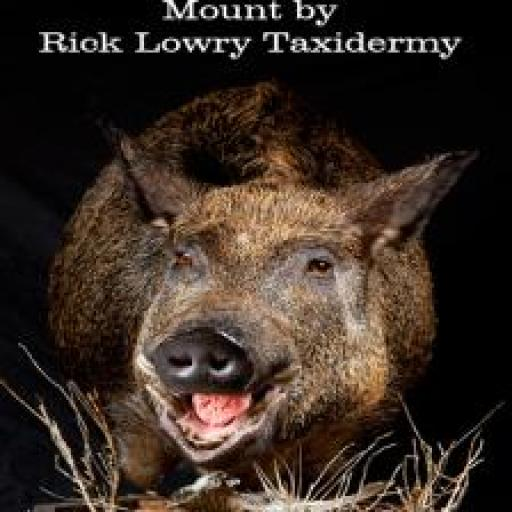Pig: (46, 85, 468, 488)
